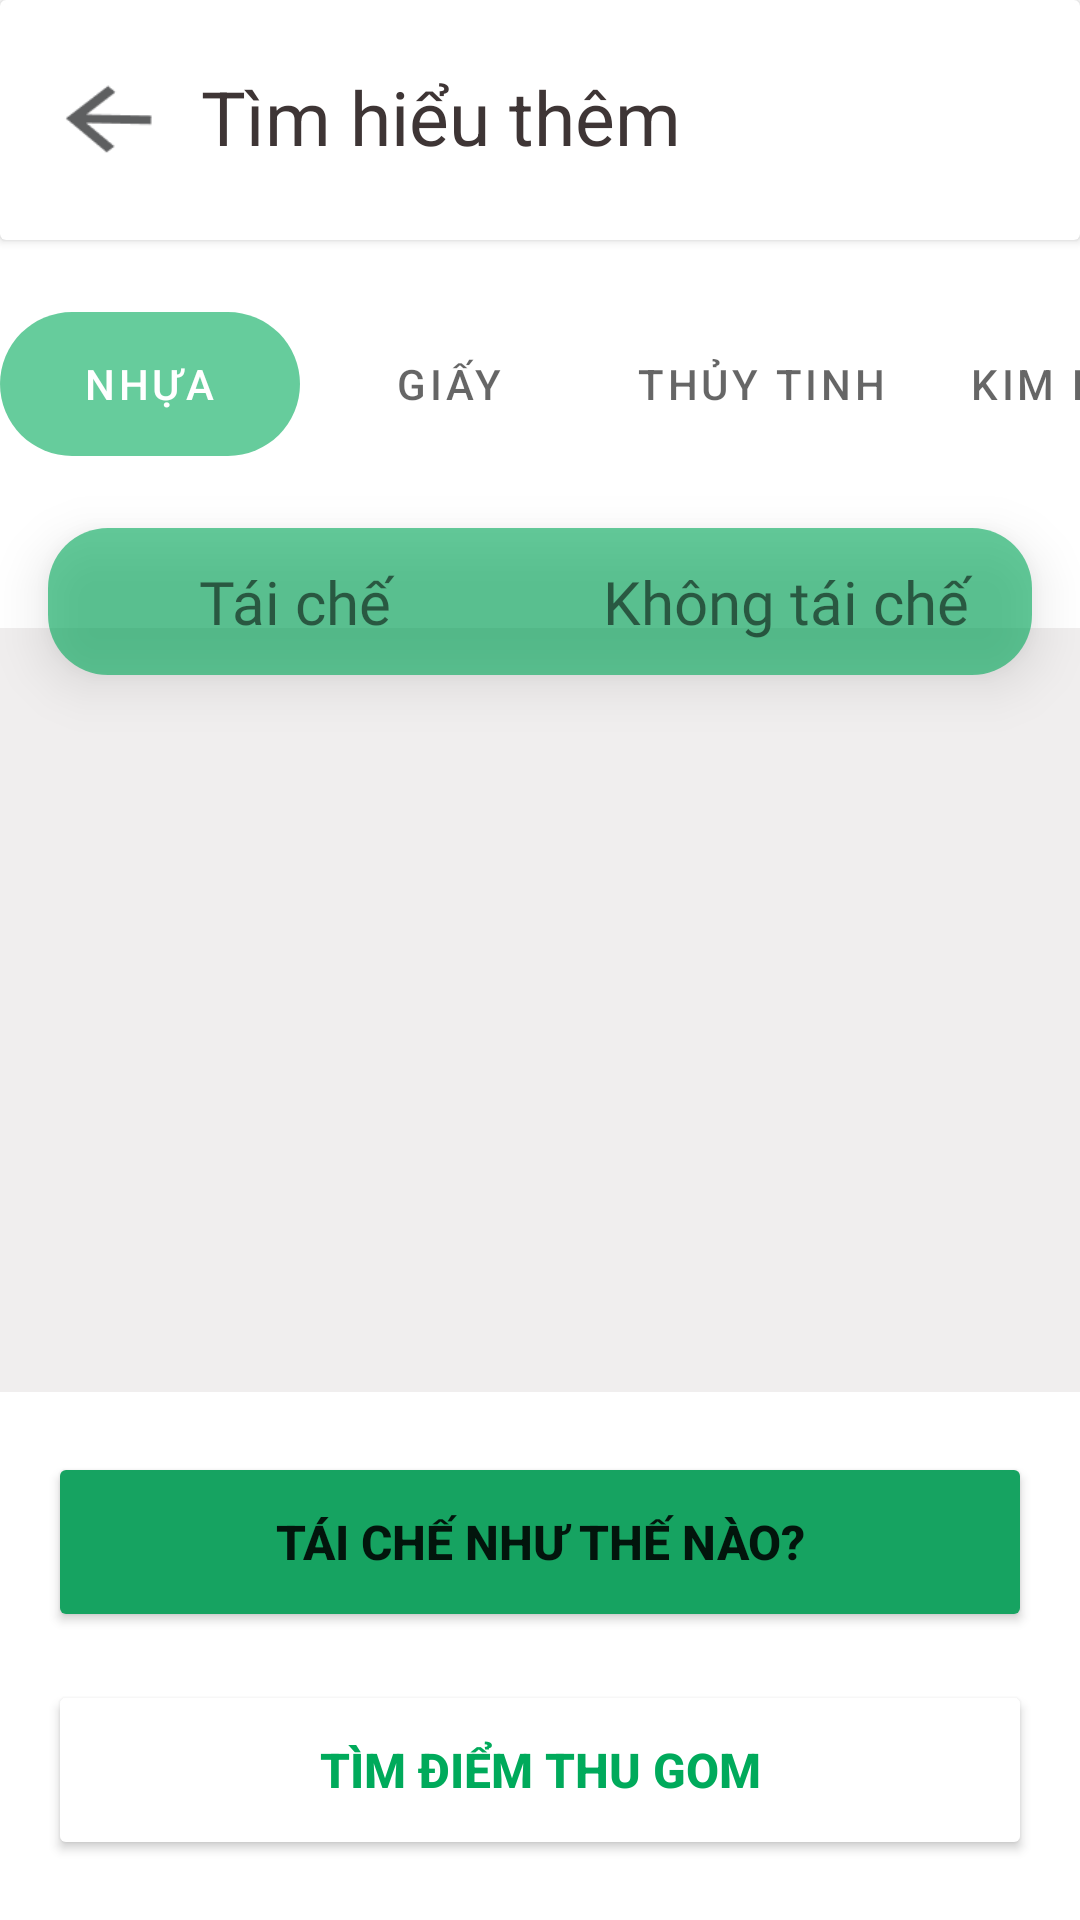

Named icons in this screenshot (1080w x 1920h) and their centers, (x=x, y=y):
back: (x=109, y=119)
